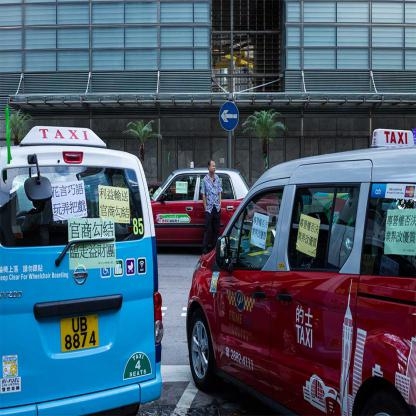taxi: (187, 129, 416, 416)
